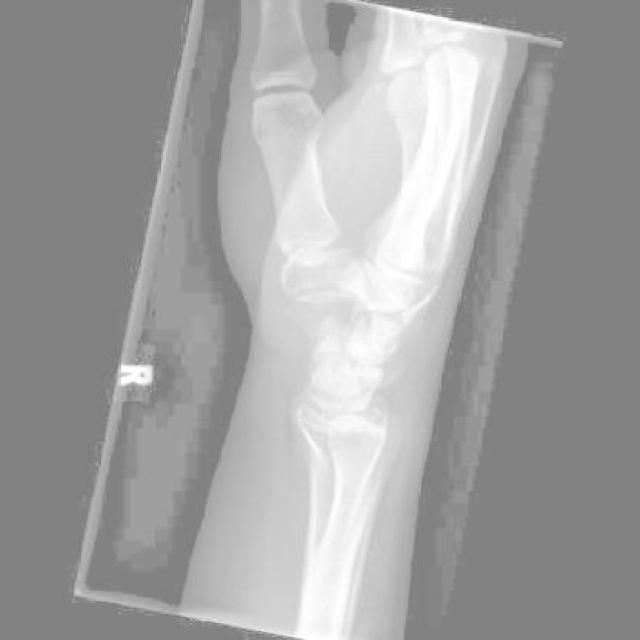Fracture: (306, 317, 362, 366)
